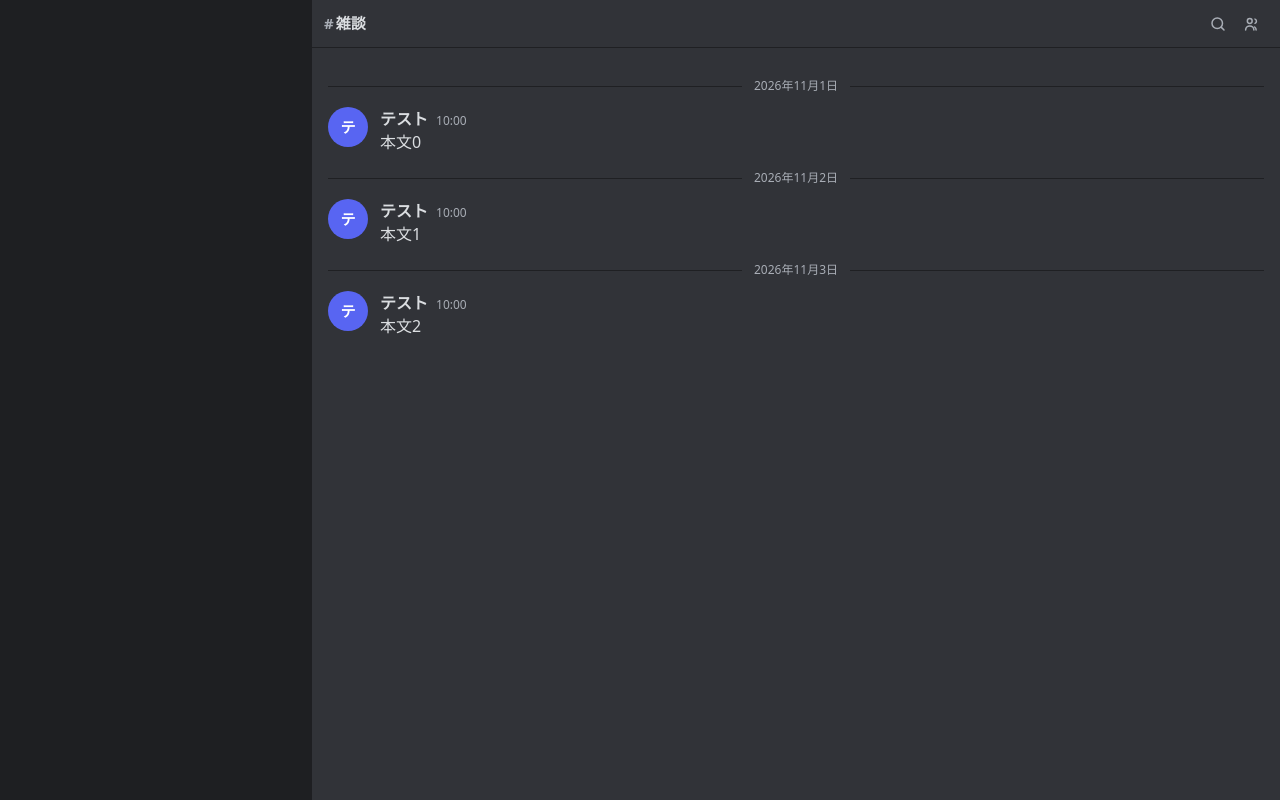
Test: メンバー一覧の絞り込み（#163） › プロフィールのリンクはリンク先のURLをそのまま見せ、同一タブで開く
Click the button named "メンバー": click(1252, 24) x1=1236 y1=8 x2=1268 y2=40
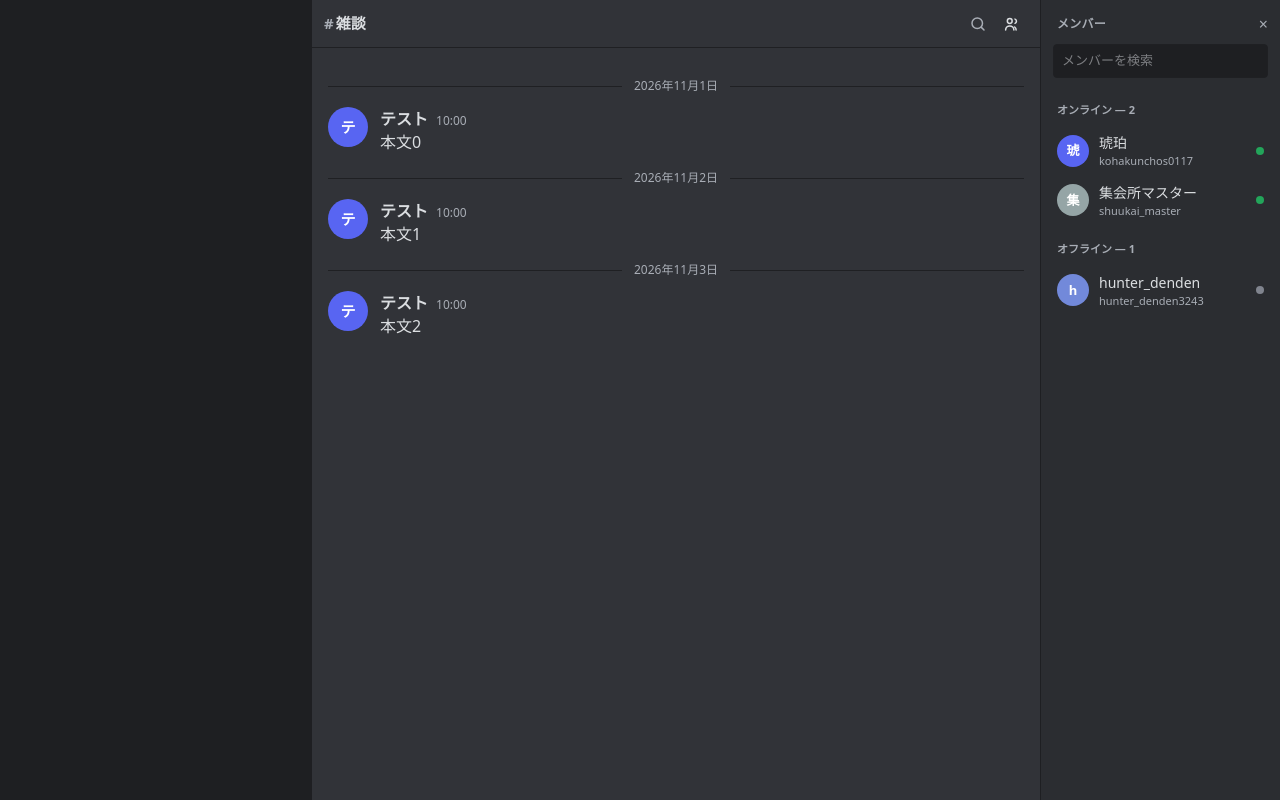
Click the button with class "members-row" that starts with "hunter_denden": click(1160, 290) x1=1049 y1=266 x2=1272 y2=315
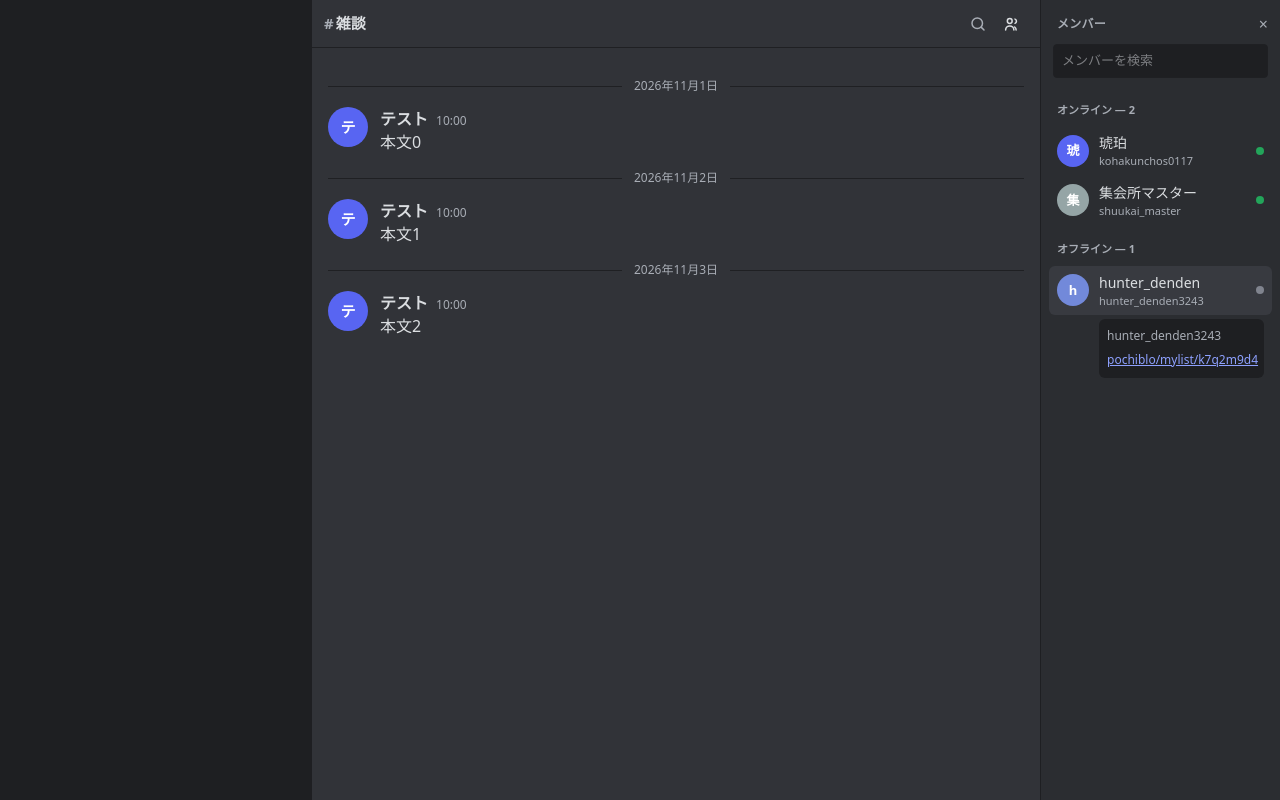
Check: the link with class "members-profile-link" reads "pochiblo/mylist/k7q2m9d4", box x1=1107 y1=351 x2=1258 y2=369
